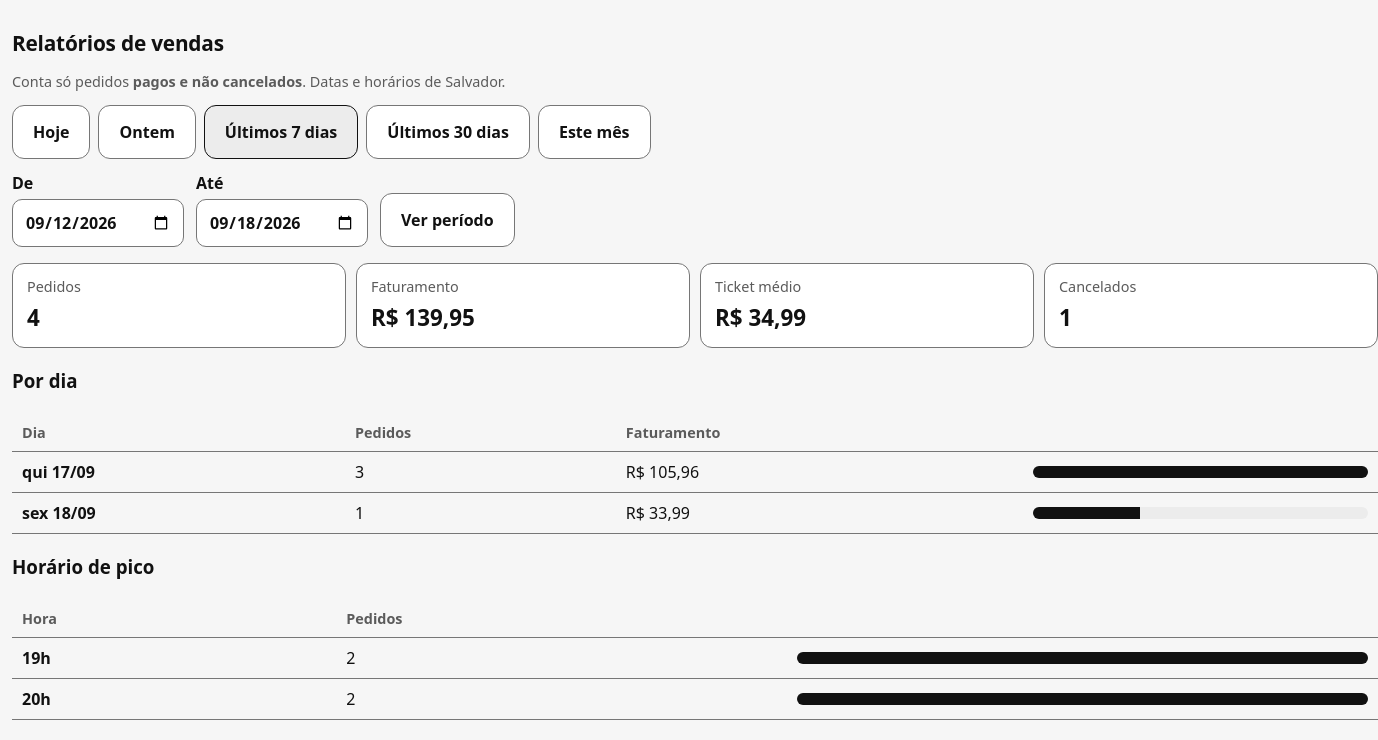
Admin: relatórios de vendas › datas invertidas: avisa e NÃO consulta o banco
Expected: the text "Ticket médio" is shown, [715,277,801,296]
In the date field labelled "De": coordinates (98, 223) [12,199,184,247], type "2026-09-18"
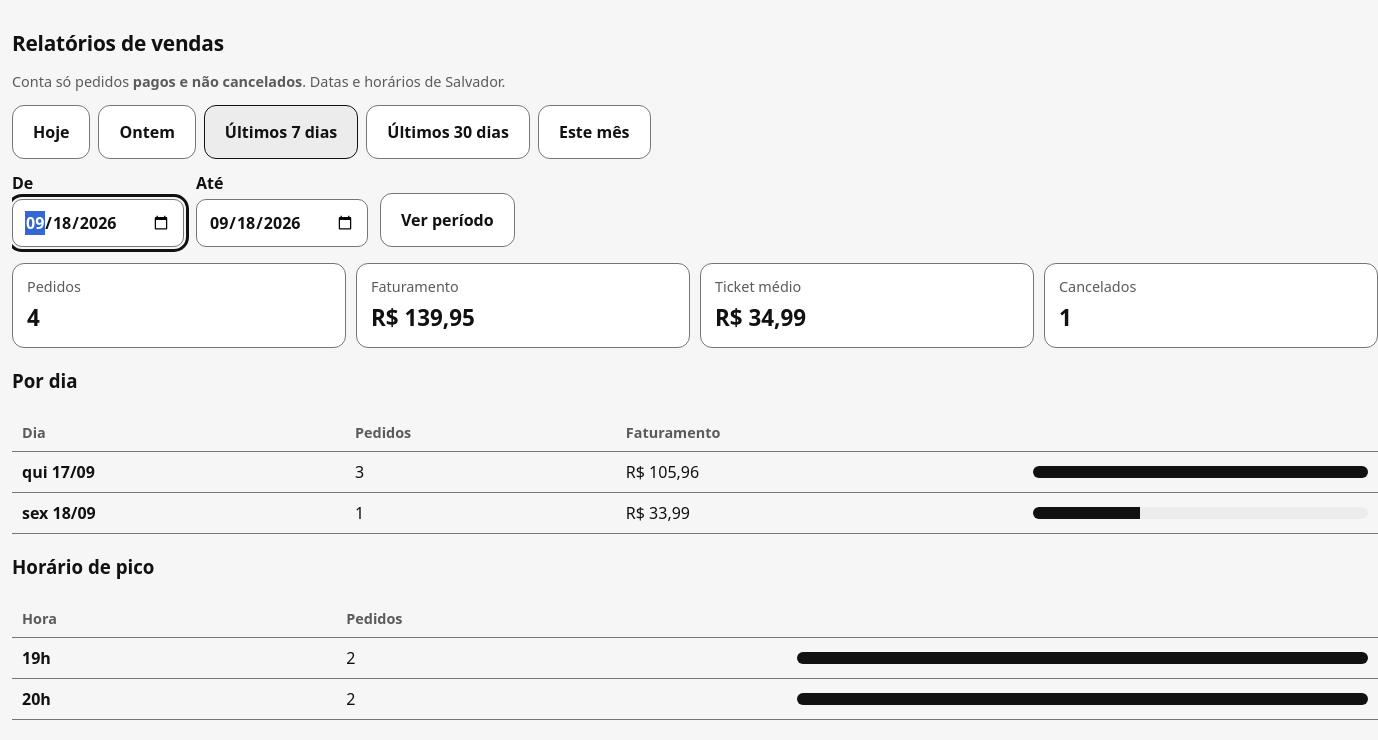
In the date field labelled "Até": coordinates (282, 223) [196,199,368,247], type "2026-09-01"
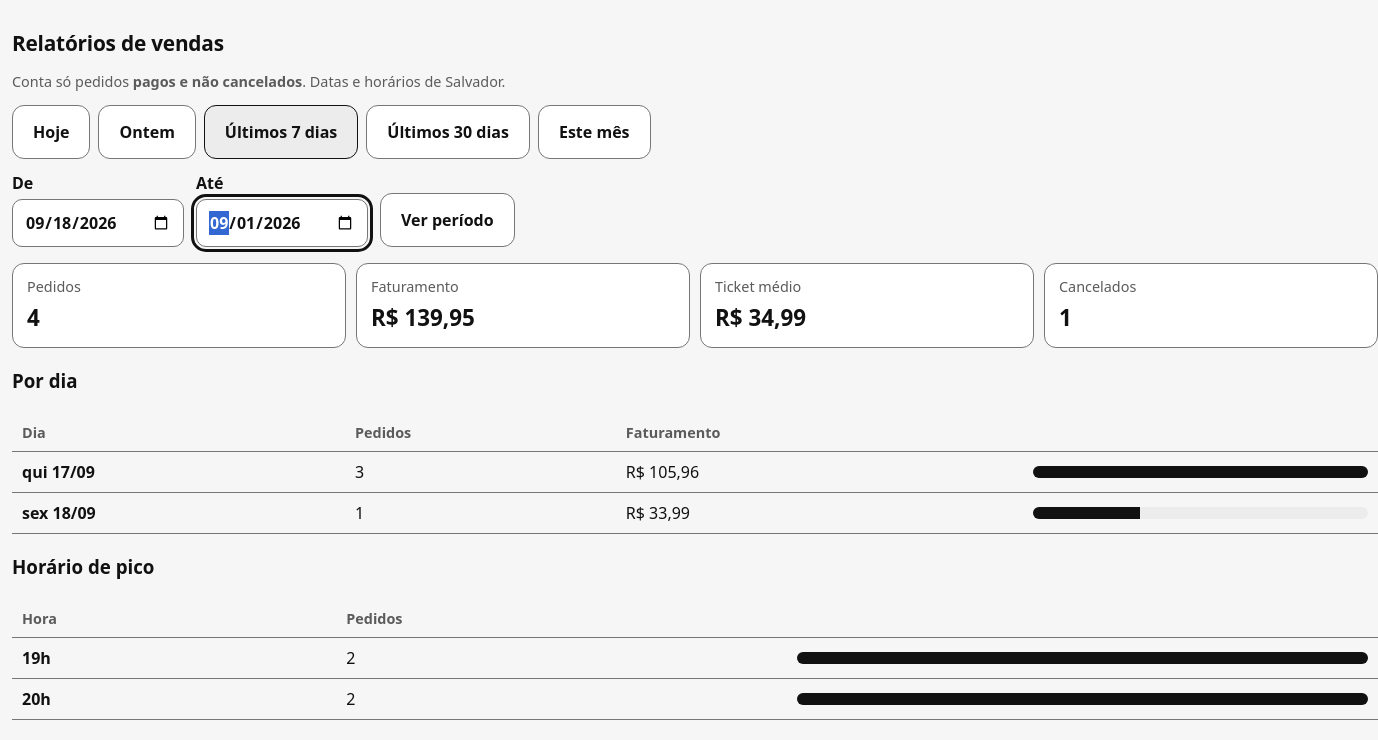
Click the button "Ver período": coordinates (447, 220) [380,193,515,247]
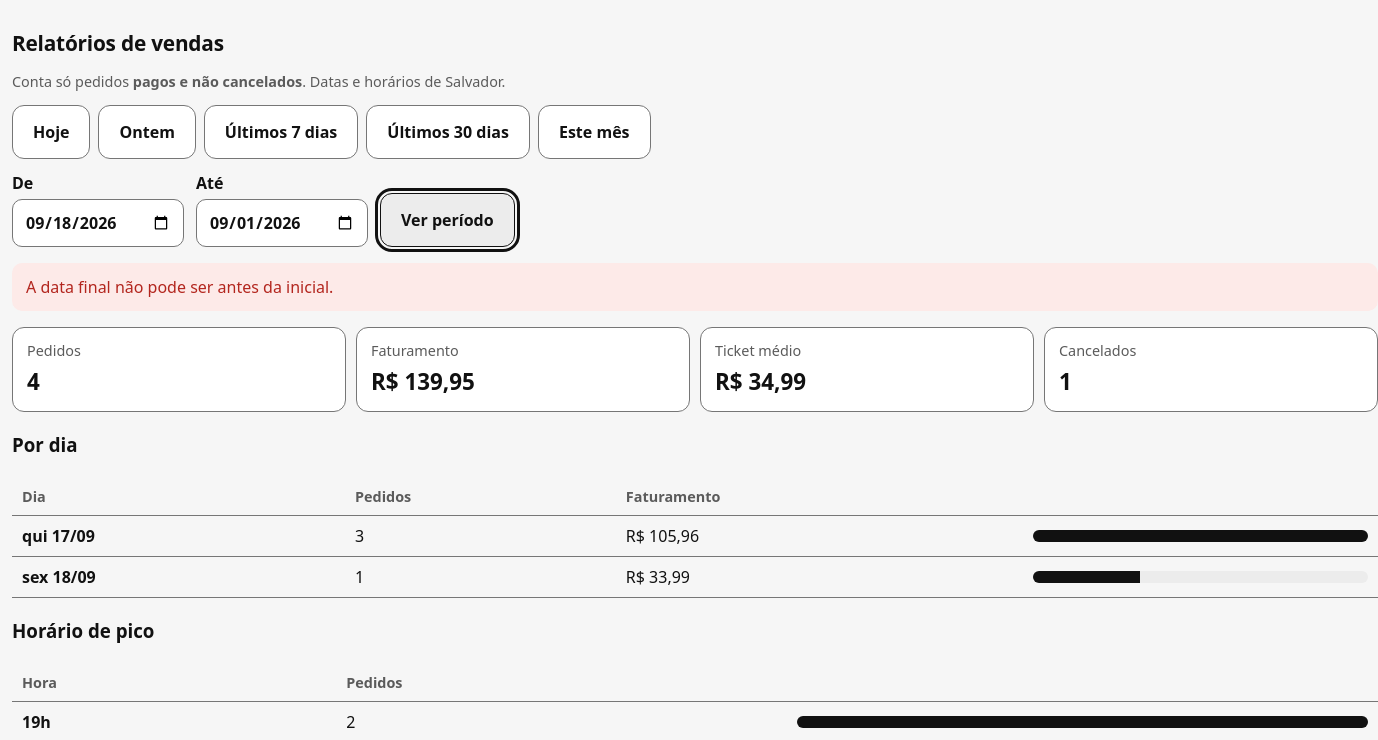
Expected: the message shows "antes da inicial", [26,276,333,298]
